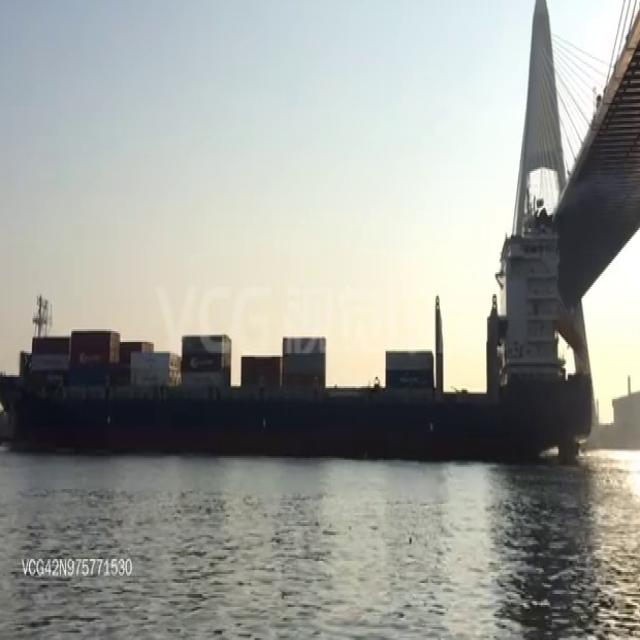cargoship: (0, 268, 591, 465)
